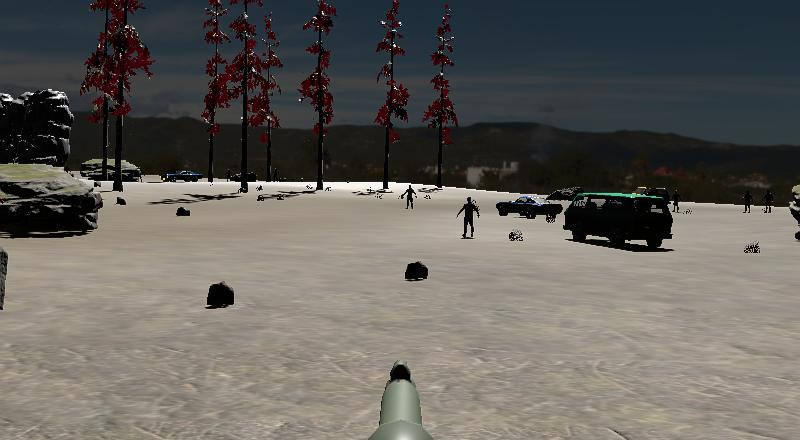Human: (455, 194, 482, 241)
Tank: (787, 175, 800, 246)
car: (561, 188, 675, 254), (493, 191, 562, 221), (160, 168, 204, 185)
